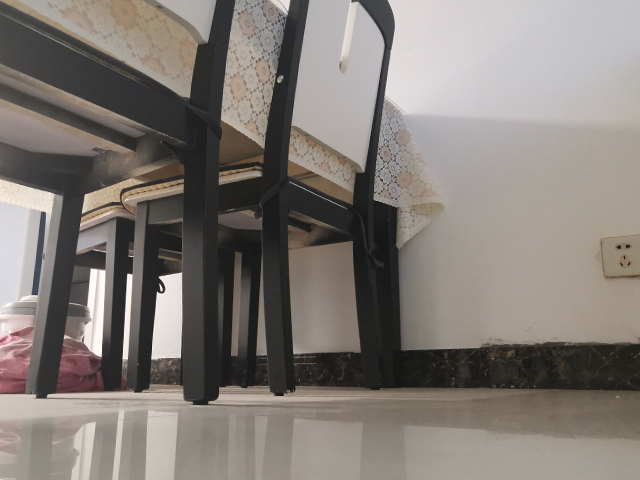stool: (218, 1, 404, 390), (50, 202, 134, 395)
table: (1, 1, 397, 411)
